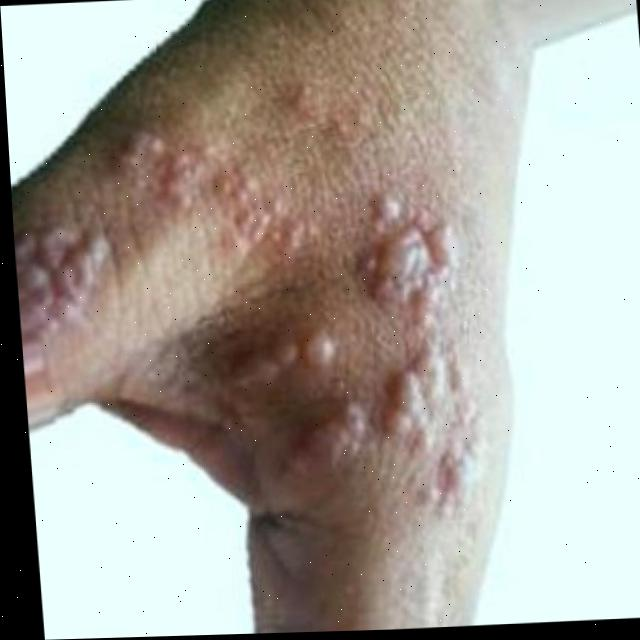Shingles: (6, 93, 488, 521)
